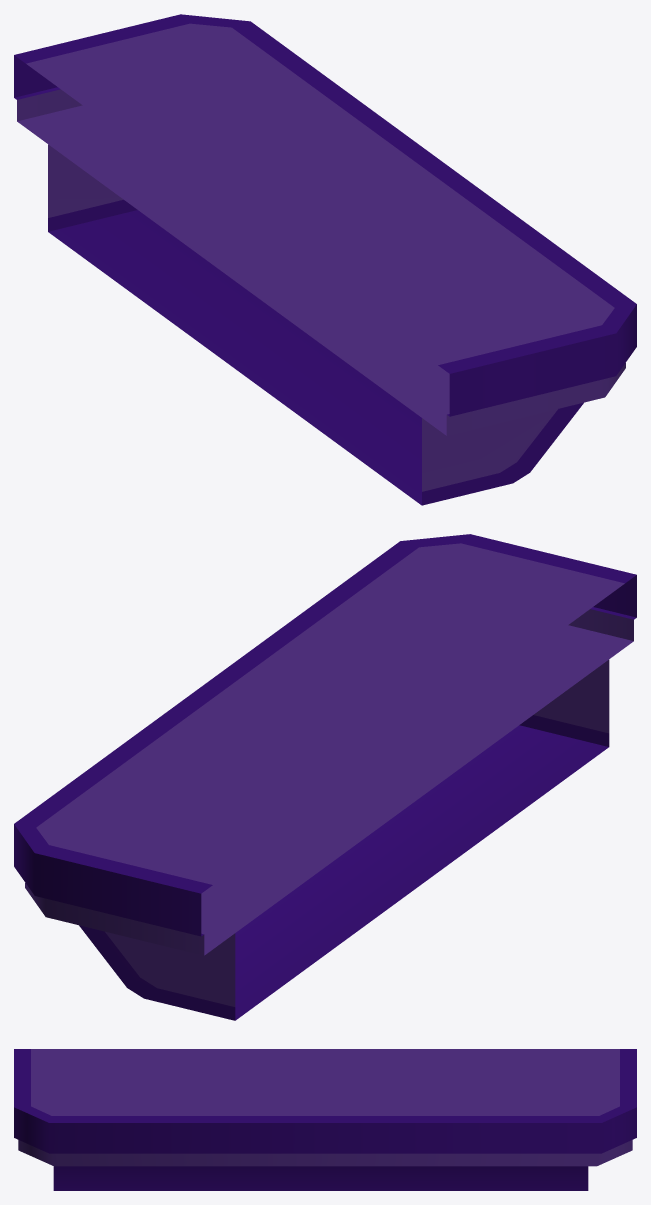
The model's file is SM_platform_2.fbx.
3 renders of one model, top to bottom at view 1: azimuth 30°, elevation 25°; view 2: azimuth 150°, elevation 25°; view 3: azimuth 270°, elevation 25°, orthographic. The views are drawn at different scales.
Visible parts, largest first — view 1: SM_platform_2; view 2: SM_platform_2; view 3: SM_platform_2.
Part boxes in pixels (x1,y1,x2,y2): SM_platform_2: [14, 14, 636, 505]; SM_platform_2: [14, 534, 636, 1020]; SM_platform_2: [14, 1049, 636, 1190].
Size of the model in its own units: 2.07 by 1.42 by 7.37.
